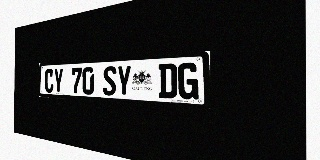0: (82, 67, 94, 95)
7: (71, 67, 82, 94)
C: (44, 69, 53, 93)
D: (158, 63, 177, 99)
G: (178, 62, 198, 100)
S: (103, 66, 116, 96)
Y: (117, 65, 131, 97), (54, 68, 63, 93)
